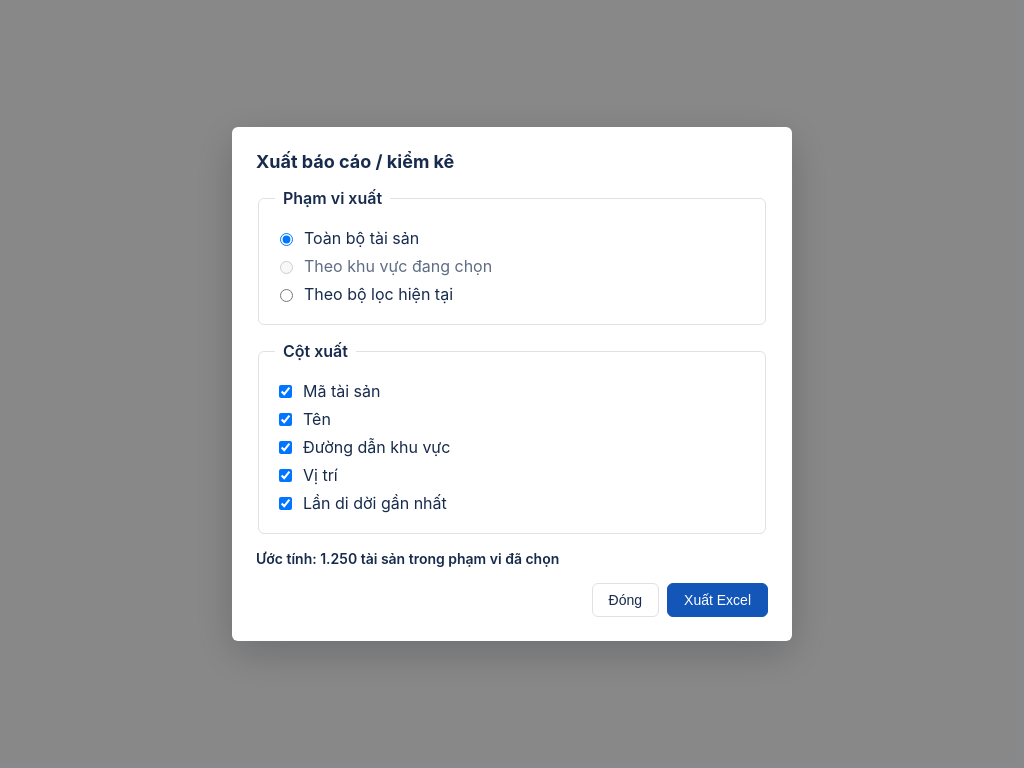
XuatBaoCaoModal — S08 › TC-S08-14: bỏ tick cả 5 cột → chặn xuất + báo lỗi
Click the checkbox labelled "Mã tài sản" at (286, 391), box [279,384,292,398]
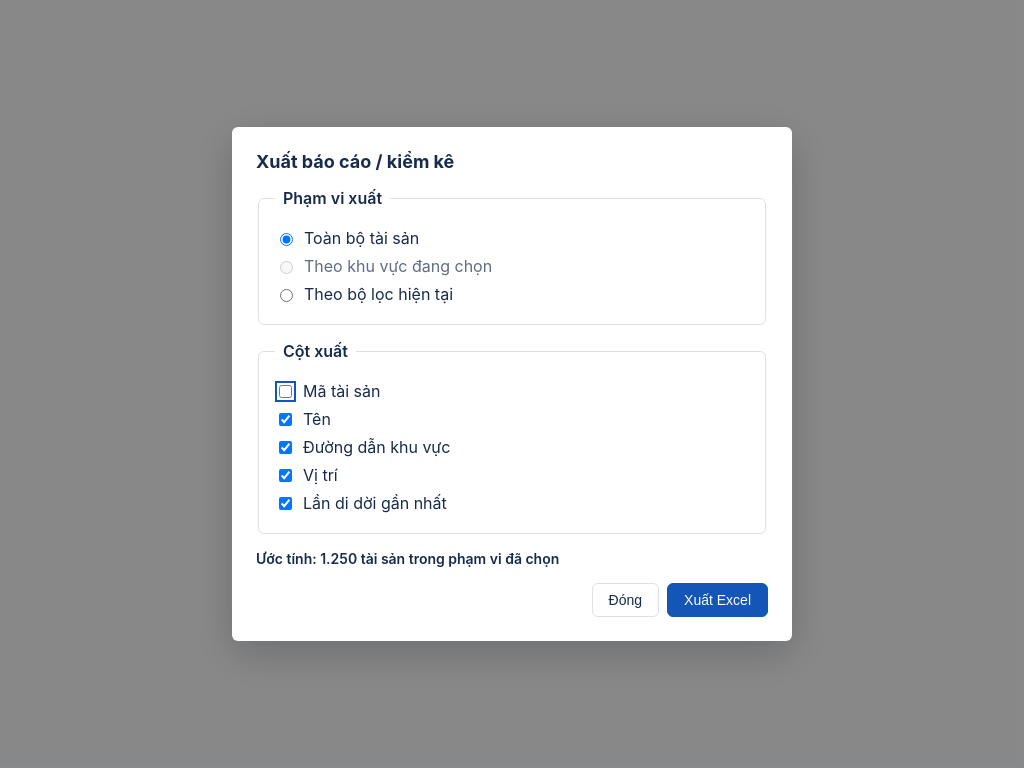
Click the checkbox labelled "Tên" at (286, 419), box [279,412,292,426]
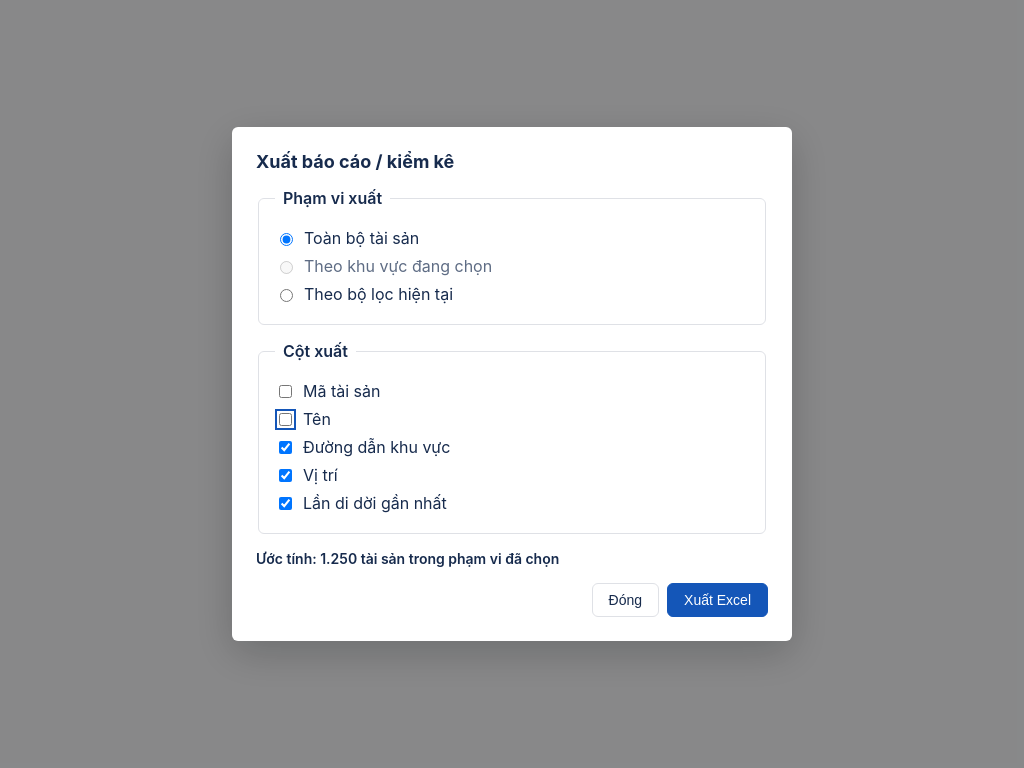
Click the checkbox labelled "Đường dẫn khu vực" at (286, 447), box [279,440,292,454]
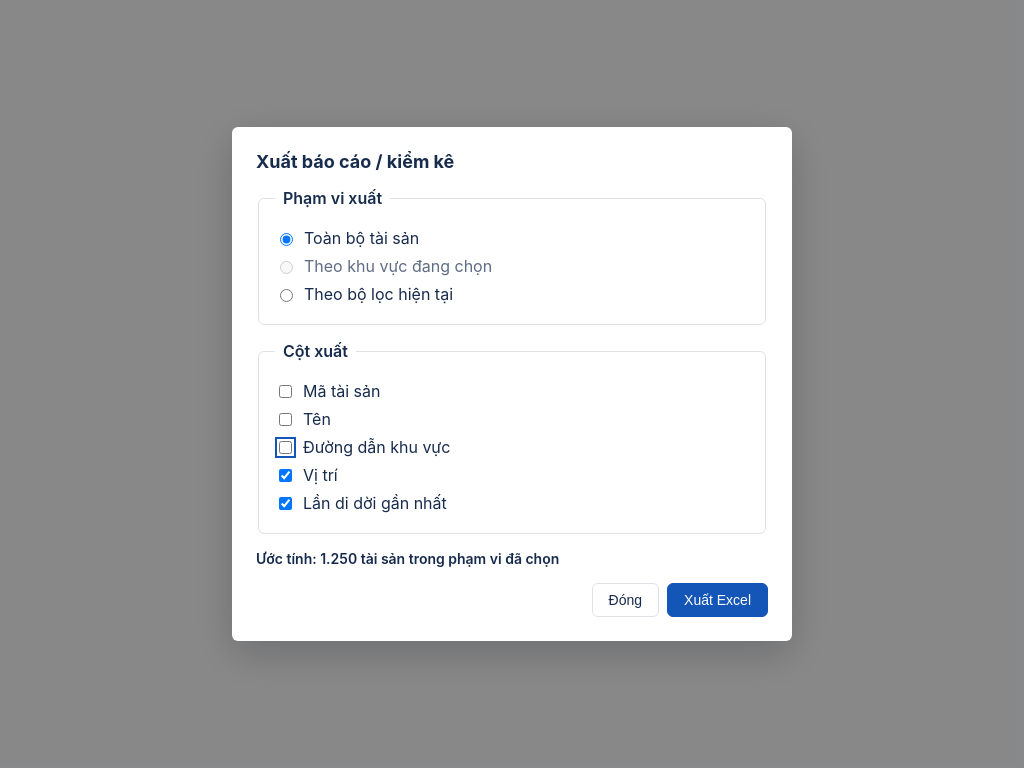
Click the checkbox labelled "Vị trí" at (286, 475), box [279,468,292,482]
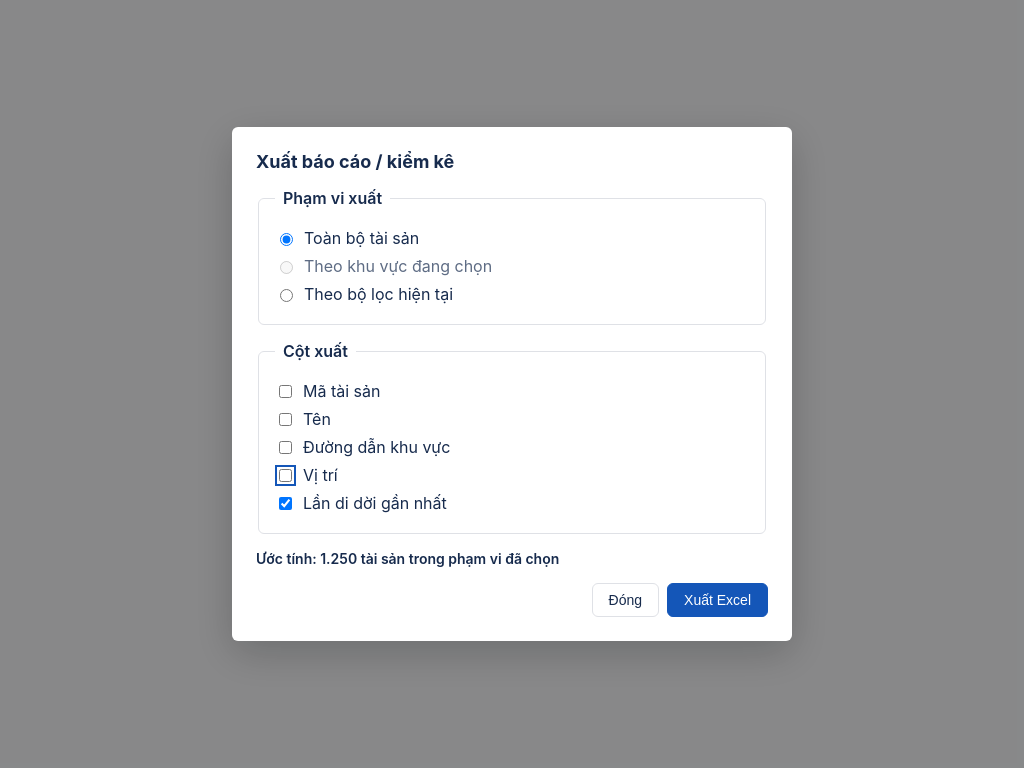
Click the checkbox labelled "Lần di dời gần nhất" at (286, 503), box [279,496,292,510]
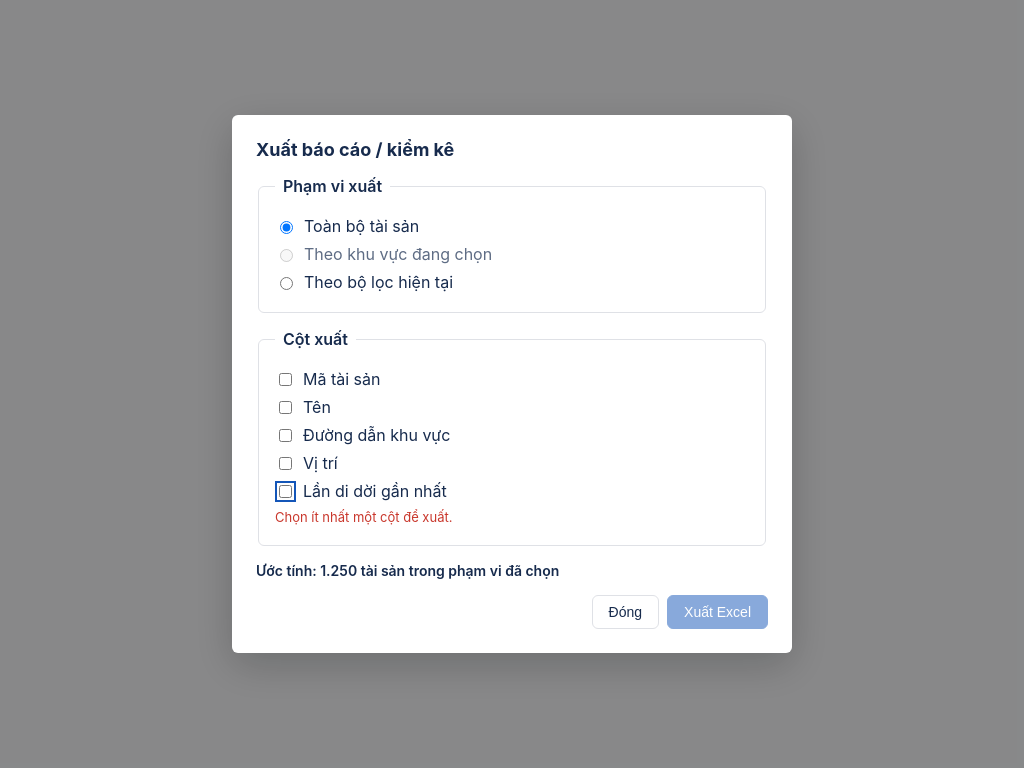
Now the message reads "Chọn ít nhất một cột để xuất.", box [275,509,452,525]
Now the button "Xuất Excel" is disabled, box [667,595,768,629]
